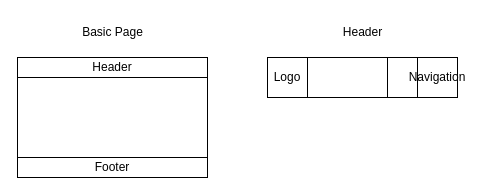
The diagram is 483 pixels wide and 195 high, and some of its shapes have lost their labels. Each missing label, with the box of its shape:
Sections: (16, 76, 208, 158)
Title: (306, 56, 388, 98)
